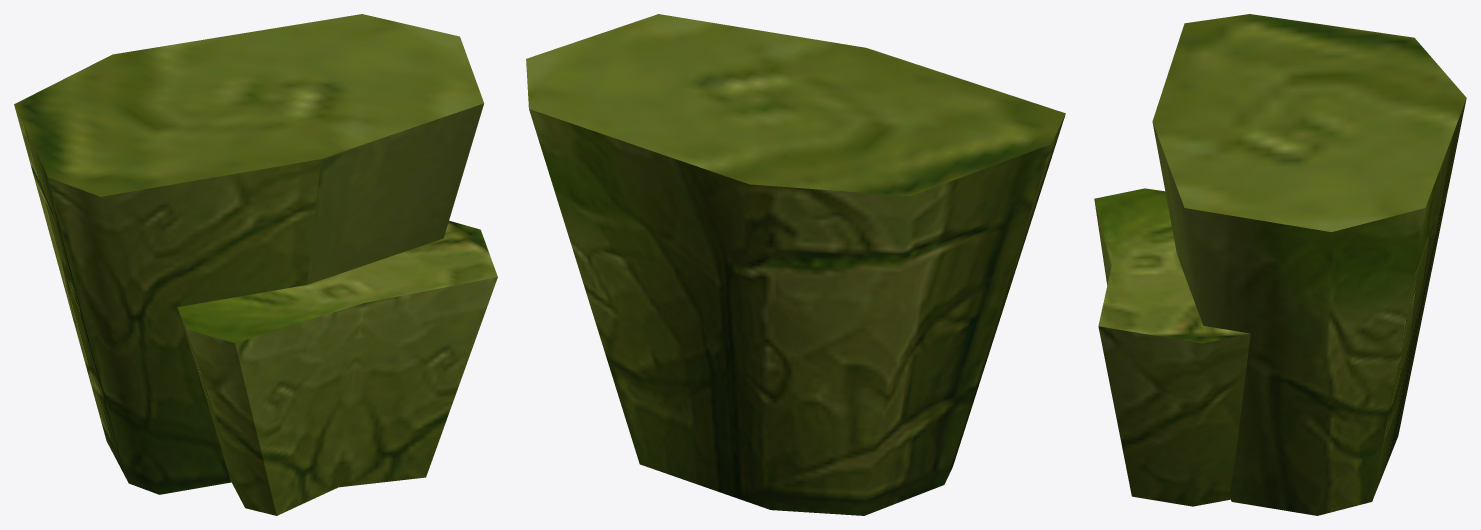
Rendered from stone07.fbx.
3 renders of one model, left to right at view 1: azimuth 30°, elevation 25°; view 2: azimuth 150°, elevation 25°; view 3: azimuth 270°, elevation 25°, orthographic. The views are drawn at different scales.
Parts seen in each view (by area): view 1: stone07; view 2: stone07; view 3: stone07.
Boxes of the visible parts, x1,y1,x2,y2 form: stone07: [14, 14, 497, 515]; stone07: [526, 14, 1065, 515]; stone07: [1094, 14, 1466, 515].
Bounding box in the file's own units: 348 × 246 × 251.
